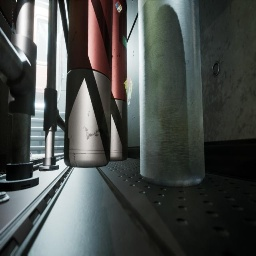0: (138, 0, 205, 187)
NitrogenTank ,: (63, 0, 112, 168), (109, 0, 128, 162)
